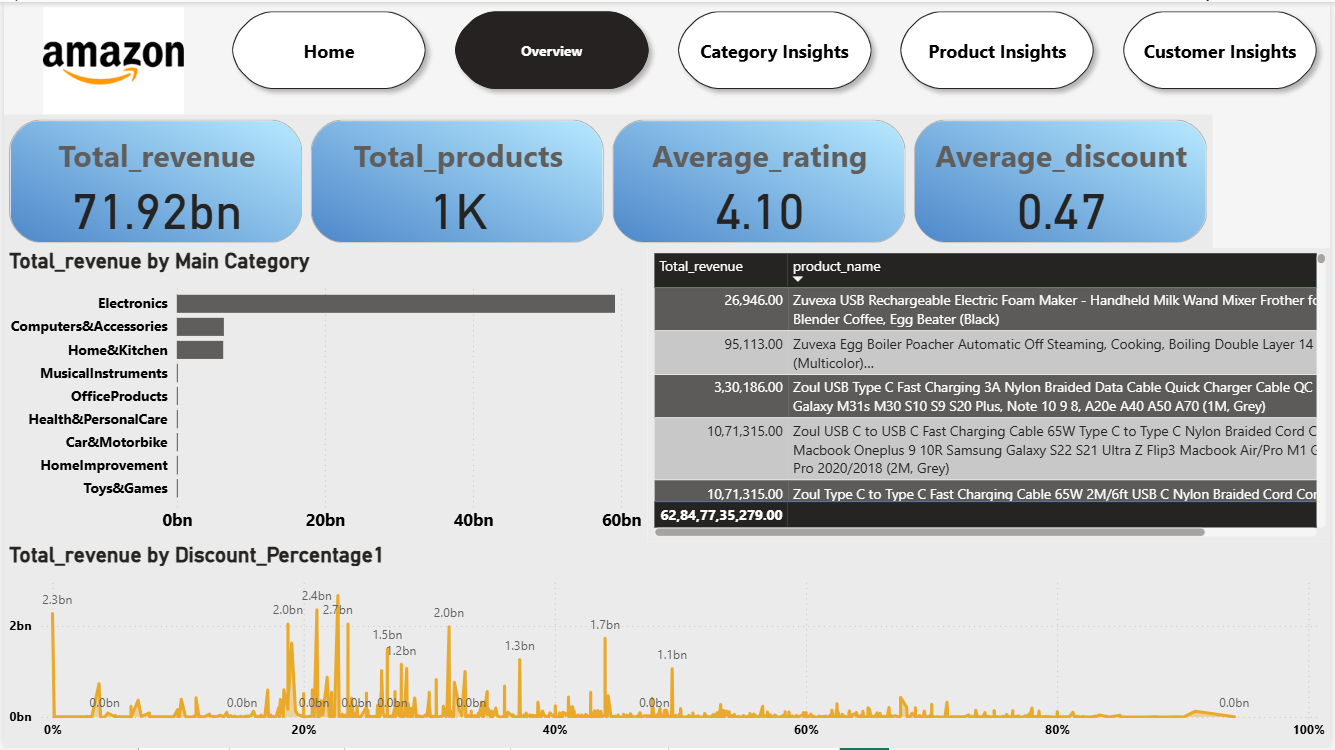

This screenshot's page, from the dashboard's own definition file:
{"tool":"powerbi","page":{"name":"Overview","canvas":[1280,720],"ordinal":1},"visuals":[{"type":"image","box":[0,0,210.7,119.6],"z":0},{"type":"pageNavigator","box":[211.3,0,1069,93.3],"z":1000},{"type":"cardVisual","fields":{"Data":["amazon.Total_revenue","amazon.Total_products","amazon.Average_rating","amazon.Average_discount"]},"box":[0,108.2,1166.1,129.6],"z":2000},{"type":"clusteredBarChart","fields":{"Y":["amazon.Total_revenue"],"Category":["amazon.Main Category Hierarchy.Main Category","amazon.Main Category Hierarchy.Sub Category","amazon.Main Category Hierarchy.Sub Category 2","amazon.Main Category Hierarchy.Sub Category 3","amazon.Main Category Hierarchy.Final Category"]},"box":[0,237.8,620.8,284.8],"z":3000},{"type":"tableEx","fields":{"Values":["amazon.Total_revenue","amazon.product_name"]},"box":[620.8,237.8,659.2,283.3],"z":4000},{"type":"lineChart","fields":{"Y":["amazon.Total_revenue"],"Category":["amazon.Discount_Percentage1"]},"box":[0,521.2,1280,199.1],"z":5000}]}

Visuals, with their boxes in screenshot pixels (x1, y1, x2, y2), scaled from the page's 1280x720 canvas onto the 1335x750 screenshot:
image: {"x1": 0, "y1": 0, "x2": 220, "y2": 125}
pageNavigator: {"x1": 220, "y1": 0, "x2": 1334, "y2": 97}
cardVisual - amazon.Total_revenue x amazon.Total_products: {"x1": 0, "y1": 113, "x2": 1216, "y2": 248}
clusteredBarChart - amazon.Total_revenue x amazon.Main Category Hierarchy.Main Category: {"x1": 0, "y1": 248, "x2": 647, "y2": 544}
tableEx - amazon.Total_revenue x amazon.product_name: {"x1": 647, "y1": 248, "x2": 1334, "y2": 543}
lineChart - amazon.Total_revenue x amazon.Discount_Percentage1: {"x1": 0, "y1": 543, "x2": 1334, "y2": 749}
